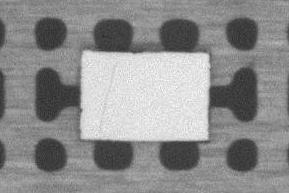DIE_CRACK: (95, 58, 121, 138)
